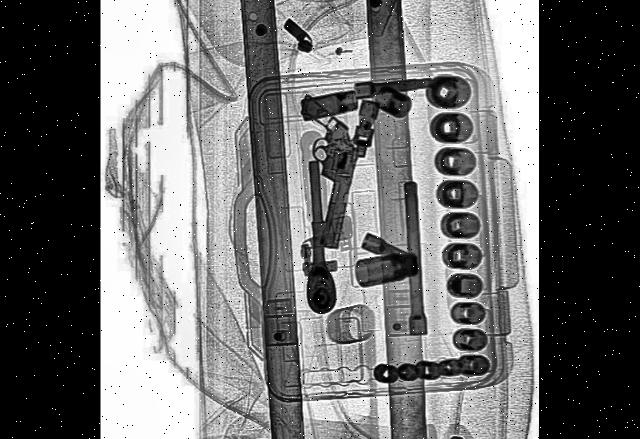Gun: (276, 89, 367, 254)
